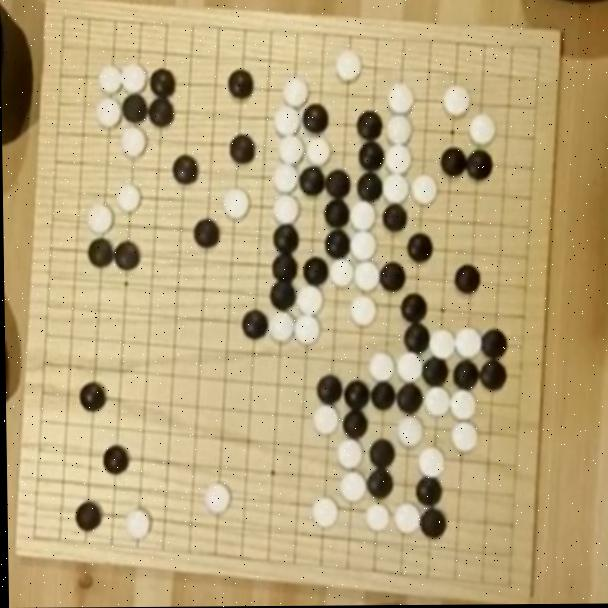corners: (50, 6, 88, 37), (525, 33, 552, 75), (494, 569, 524, 601), (17, 523, 45, 553)
